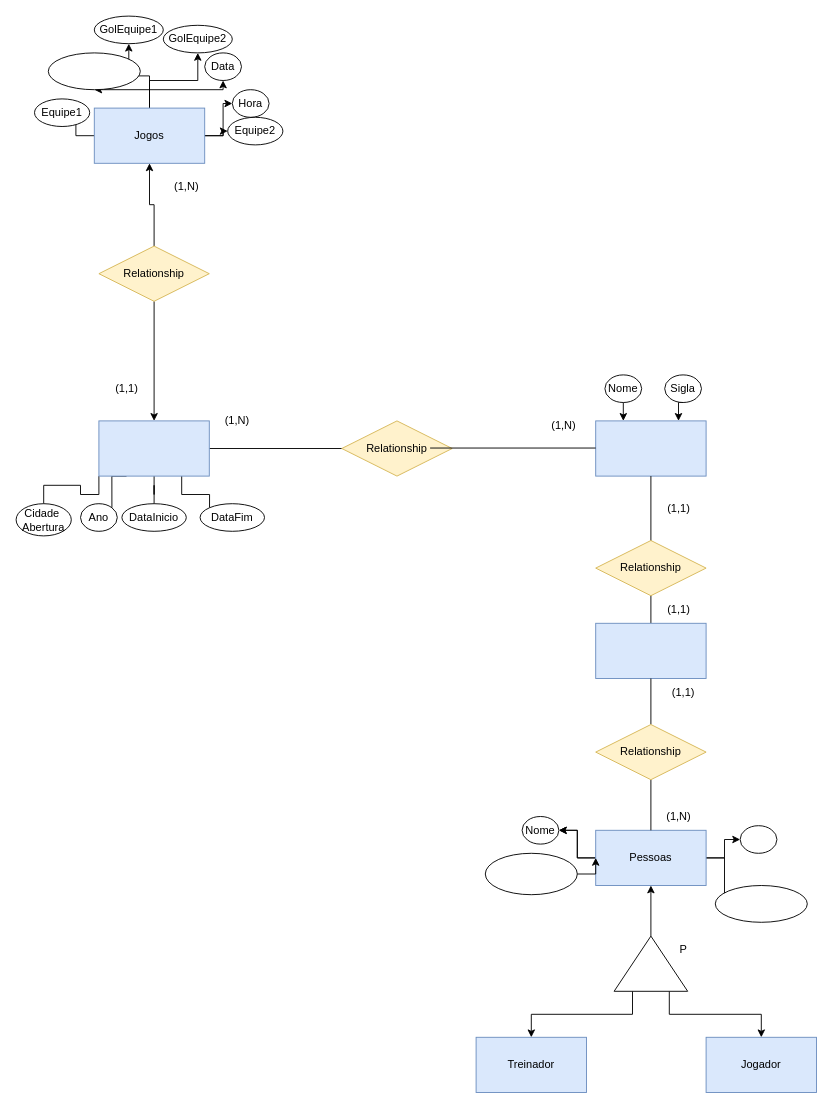
Some shapes in this 833 by 1109 pixel diagram are drawn without their labels. The centre of each missing label's shape, as x and y in pixels:
Codigo: point 758,839
Copa: point 153,448
DataNascimento: point 530,873
Equipe: point 650,650
Estadio: point 93,71
Pais: point 650,448
PaisNascimento: point 760,903
